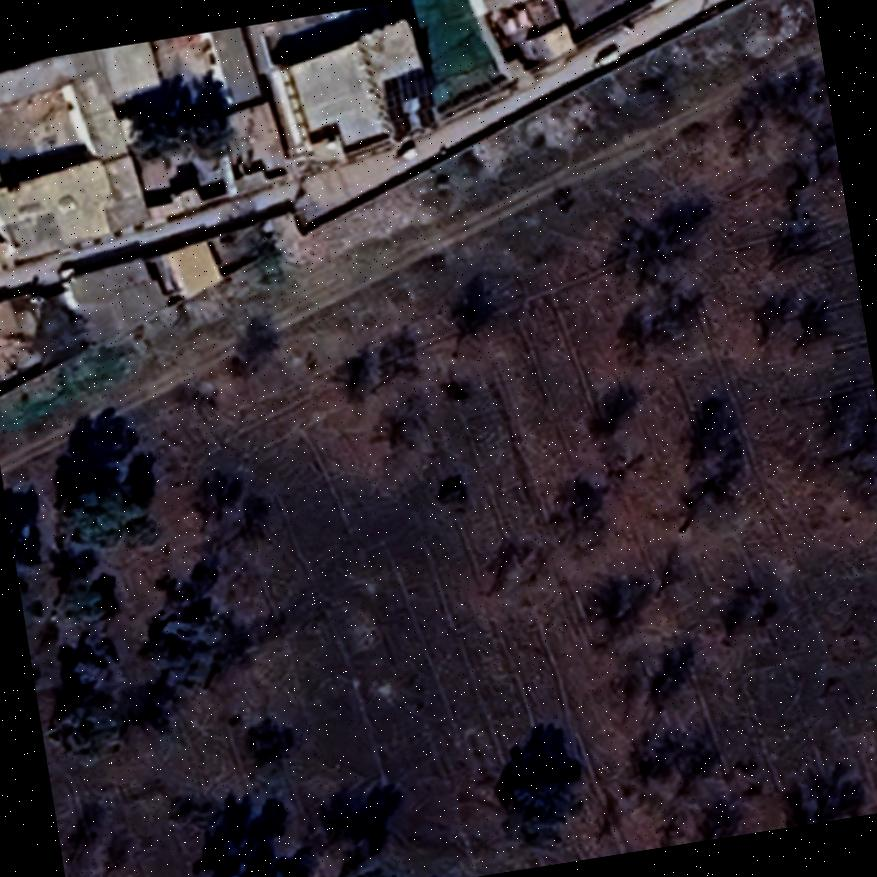Solarpanel: (375, 60, 445, 143)
